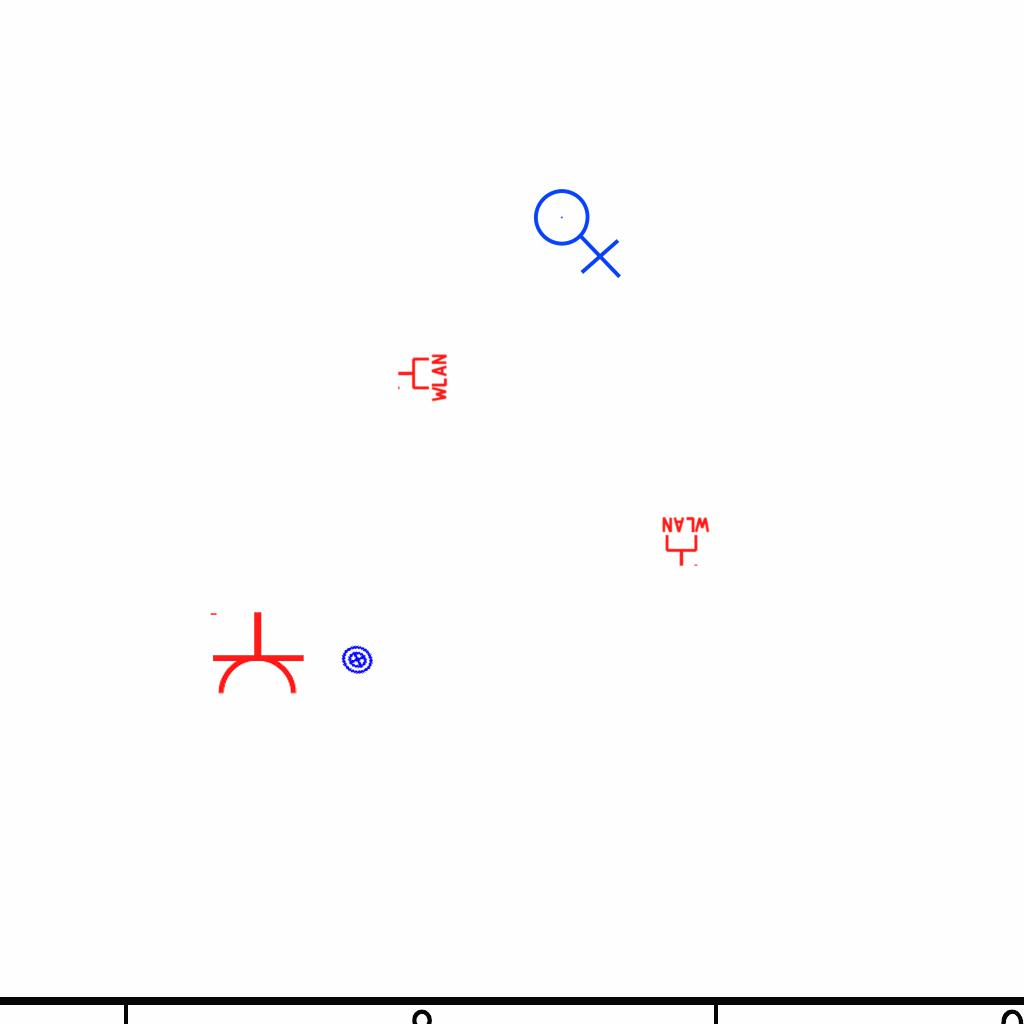Elektroanschluss_allgemein_230V_Geraeteanschlussdose_230V: (532, 180, 626, 279)
Schukosteckdose_einfach: (206, 610, 306, 697)
Taster_beleuchtet: (336, 638, 379, 681)
WLAN: (660, 516, 712, 568), (396, 352, 448, 404)
